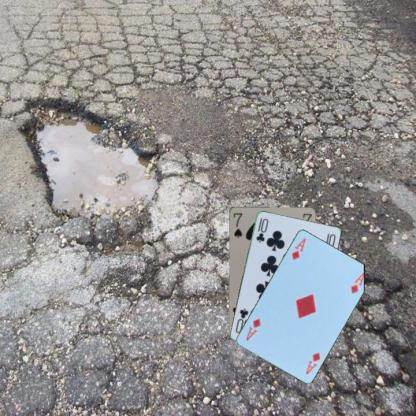10c: (254, 215, 269, 243)
7s: (231, 210, 243, 240)
Ad: (289, 235, 307, 261), (304, 350, 322, 376)
